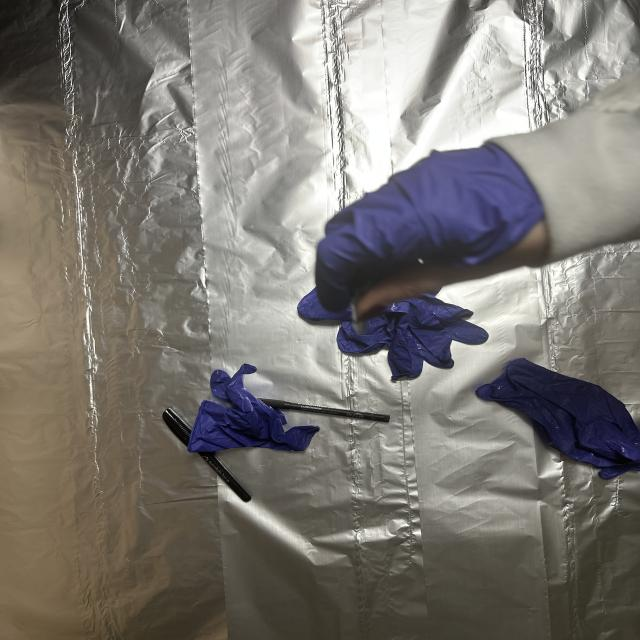glove_partial: (306, 141, 556, 336)
